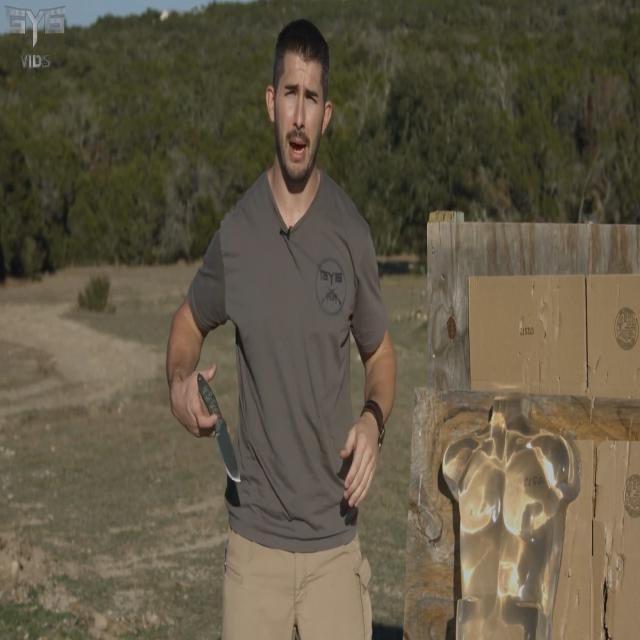knife: (196, 372, 244, 488)
